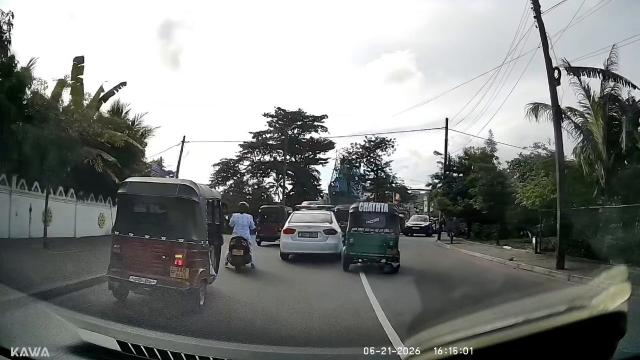illegal overtaking: (345, 192, 409, 277)
